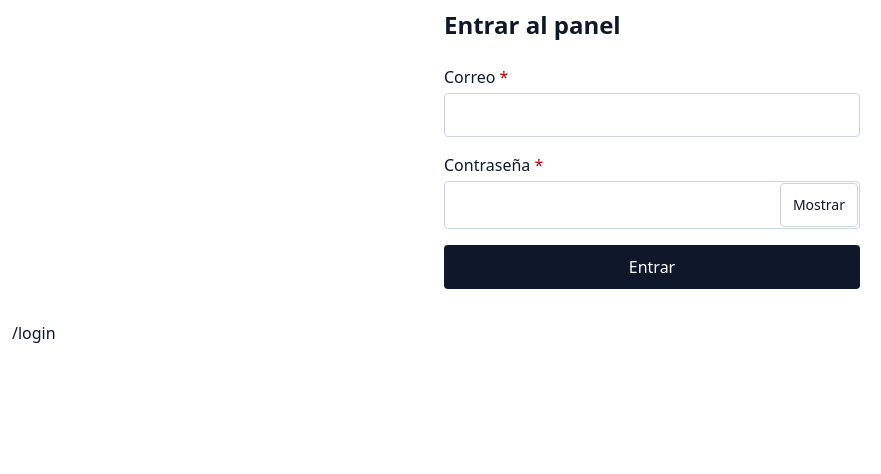
Test case: LoginPage › con el bloqueo temporal muestra los minutos y deshabilita el formulario (FR-006)
Type "ana@ejemplo.com" into the field labelled "Correo *" at [652, 115], box [444,93,860,137]
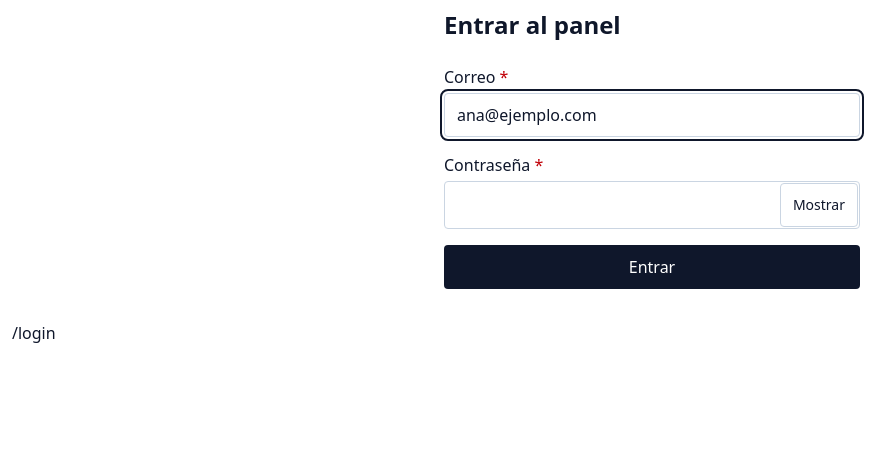
Type "Secreta.123" into the password field labelled "Contraseña *" at [652, 205], box [444,181,860,229]
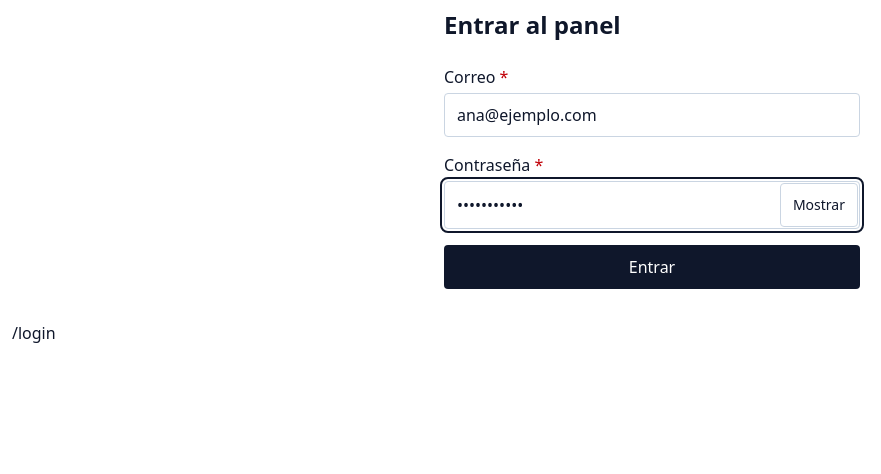
Click the button "Entrar" at [652, 267], box [444,245,860,289]
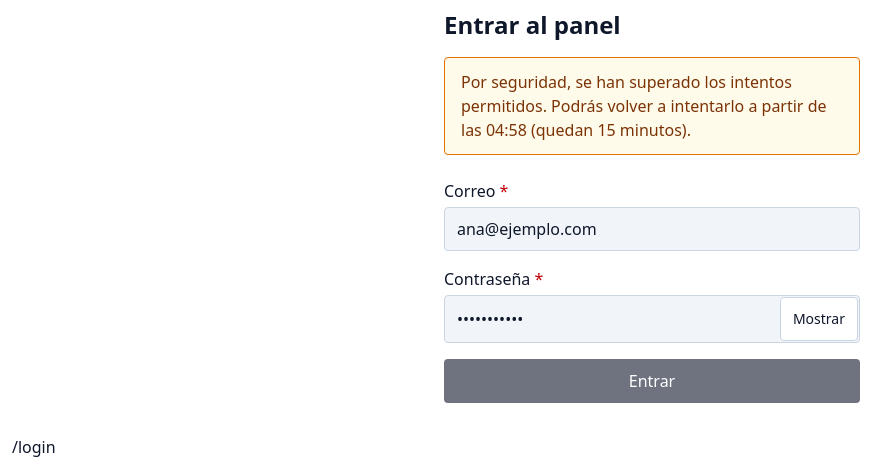
Check: the message shows "se han superado los intentos permitidos", box [461,71,826,141]
Check: the message shows "quedan 15 minutos", box [461,71,826,141]
Check: the field labelled "Correo *" is disabled, box [444,207,860,251]
